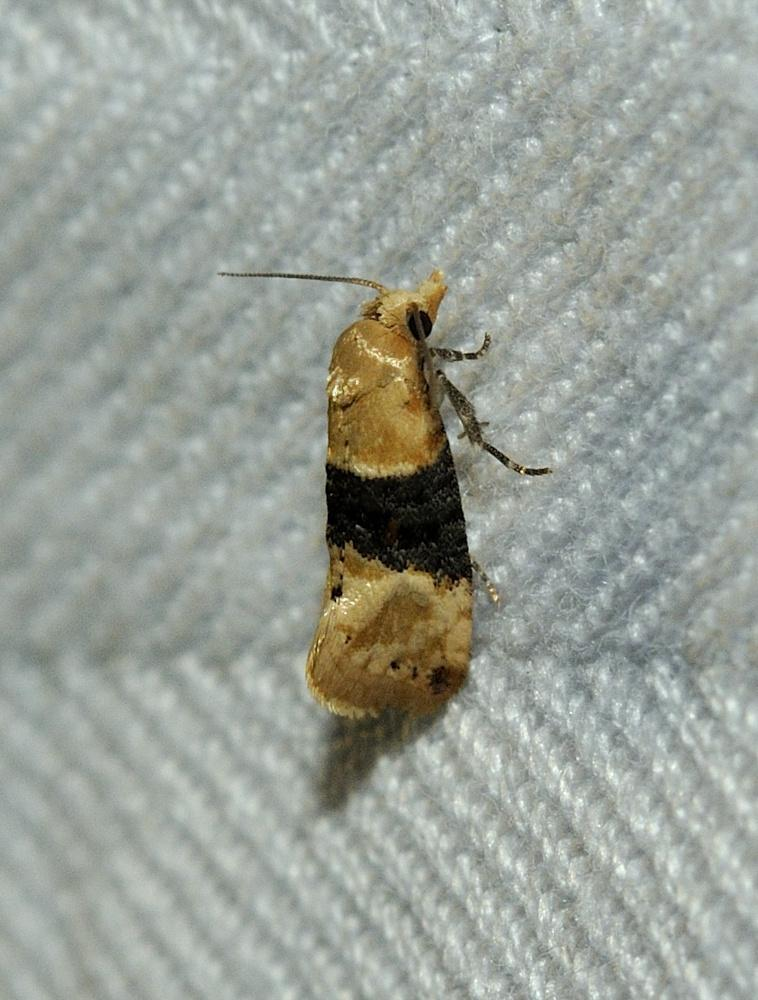Eupoecilia Ambiguella: (213, 259, 556, 726)
